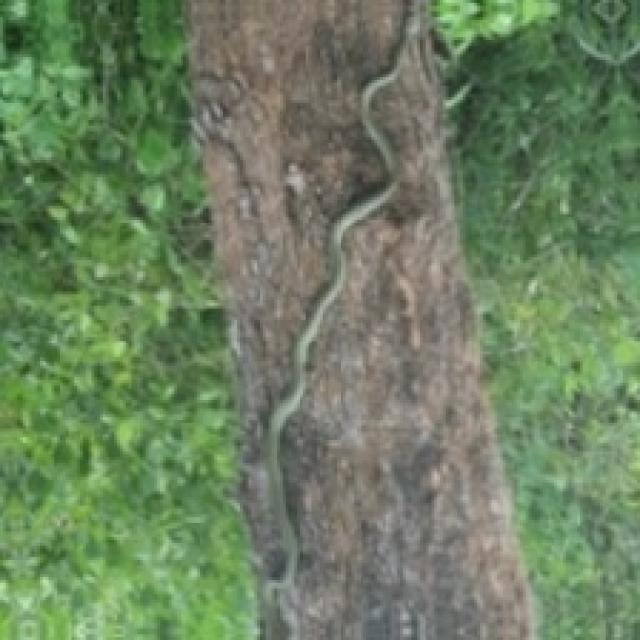paradise tree snake: (270, 15, 418, 587)
